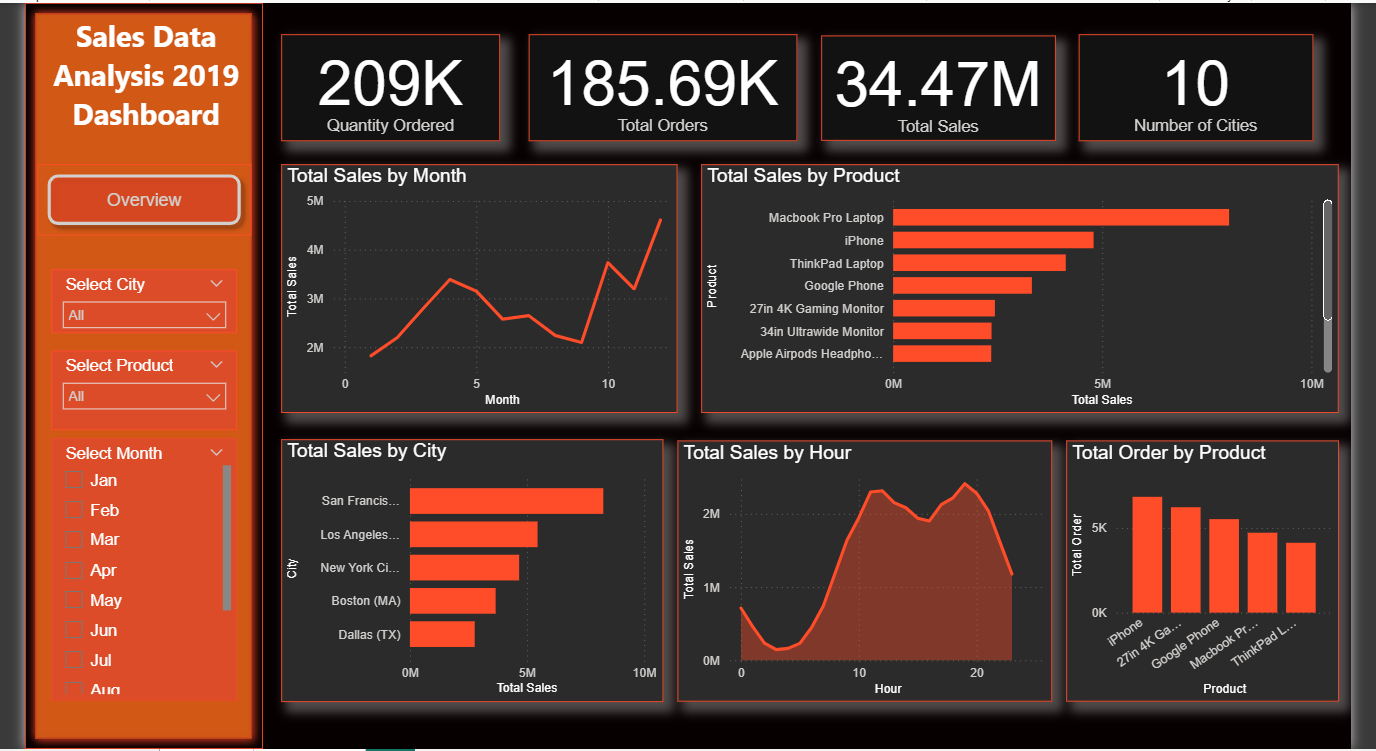

What the dashboard file says about the page in this screenshot:
{"tool":"powerbi","page":{"name":"Overview","canvas":[1280,720],"ordinal":1},"visuals":[{"type":"card","fields":{"Values":["CountNonNull(cleaned_sales_data.Order ID)"]},"box":[485.8,30.2,259.3,102.9],"z":0},{"type":"card","fields":{"Values":["Sum(cleaned_sales_data.Total Sales)"]},"box":[768.4,31.6,226.4,101.5],"z":1000},{"type":"card","fields":{"Values":["Sum(cleaned_sales_data.Quantity Ordered)"]},"box":[247,30.2,211.3,102.9],"z":2000},{"type":"shape","box":[0,0,229.2,720.2],"z":3000},{"type":"card","fields":{"Values":["Count(cleaned_sales_data.City)"]},"box":[1016.8,30.2,226.4,102.9],"z":4000},{"type":"lineChart","fields":{"Category":["cleaned_sales_data.Month"],"Y":["Sum(cleaned_sales_data.Total Sales)"]},"box":[247.3,155.6,382.4,240.1],"z":5000},{"type":"barChart","fields":{"Category":["cleaned_sales_data.City"],"Y":["Sum(cleaned_sales_data.Total Sales)"]},"box":[247.7,421.6,368.7,253.2],"z":6000},{"type":"clusteredBarChart","fields":{"Category":["cleaned_sales_data.Product"],"Y":["Sum(cleaned_sales_data.Total Sales)"]},"box":[652.7,155.6,615.3,240.1],"z":7000},{"type":"areaChart","fields":{"Y":["Sum(cleaned_sales_data.Total Sales)"],"Category":["cleaned_sales_data.Hour"]},"box":[629.8,422.3,361.9,252.1],"z":8000},{"type":"columnChart","fields":{"Category":["cleaned_sales_data.Product"],"Y":["CountNonNull(cleaned_sales_data.Order ID)"]},"box":[1005,422.3,263,252.1],"z":9000},{"type":"actionButton","box":[12.1,155.6,206.3,68.8],"z":10000}]}

Visuals, with their boxes on the page's 1280x720 design canvas (x1, y1, x2, y2). These are canvas units, not pixel positions in the 1376x751 screenshot, which may show the page scaled, cropped or inside an application window:
card - CountNonNull(cleaned_sales_data.Order ID): 486,30,745,133
card - Sum(cleaned_sales_data.Total Sales): 768,32,995,133
card - Sum(cleaned_sales_data.Quantity Ordered): 247,30,458,133
shape: 0,0,229,720
card - Count(cleaned_sales_data.City): 1017,30,1243,133
lineChart - cleaned_sales_data.Month x Sum(cleaned_sales_data.Total Sales): 247,156,630,396
barChart - cleaned_sales_data.City x Sum(cleaned_sales_data.Total Sales): 248,422,616,675
clusteredBarChart - cleaned_sales_data.Product x Sum(cleaned_sales_data.Total Sales): 653,156,1268,396
areaChart - Sum(cleaned_sales_data.Total Sales) x cleaned_sales_data.Hour: 630,422,992,674
columnChart - cleaned_sales_data.Product x CountNonNull(cleaned_sales_data.Order ID): 1005,422,1268,674
actionButton: 12,156,218,224
